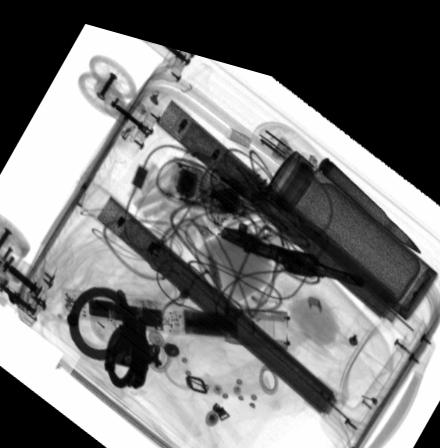Baton: (59, 283, 290, 335)
Bullet: (317, 138, 422, 231)
Gun: (220, 211, 365, 268)
HandCuffs: (66, 280, 162, 383)
